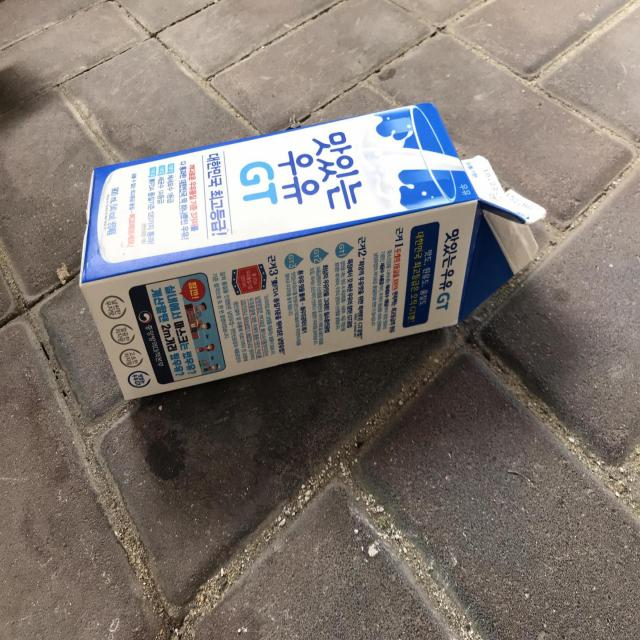paperpack: (80, 100, 546, 399)
